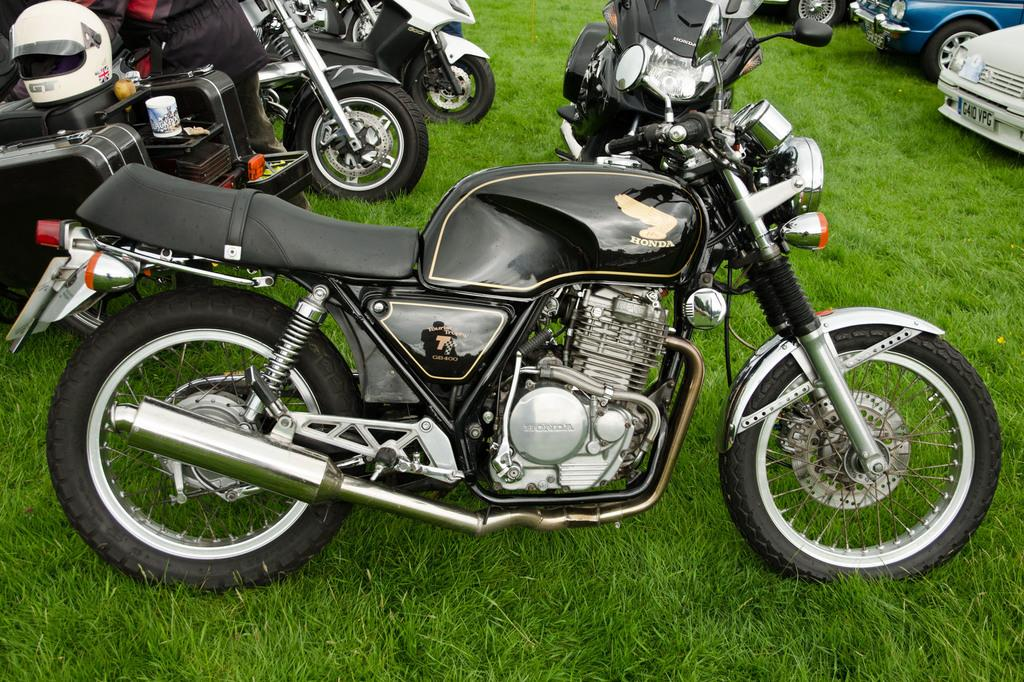helmet: (9, 0, 112, 107)
